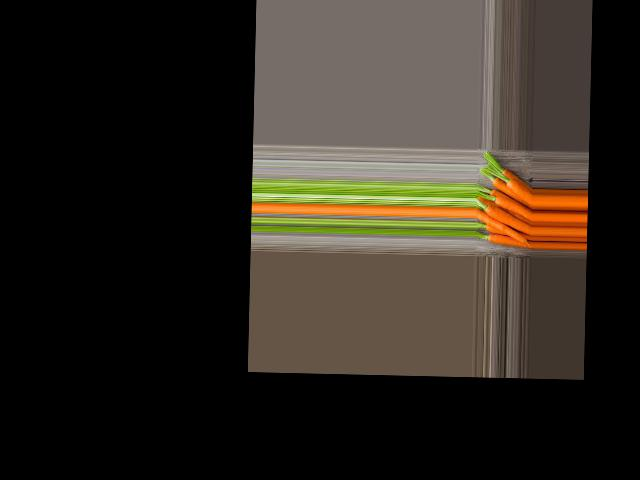carrot: (483, 177, 532, 202)
